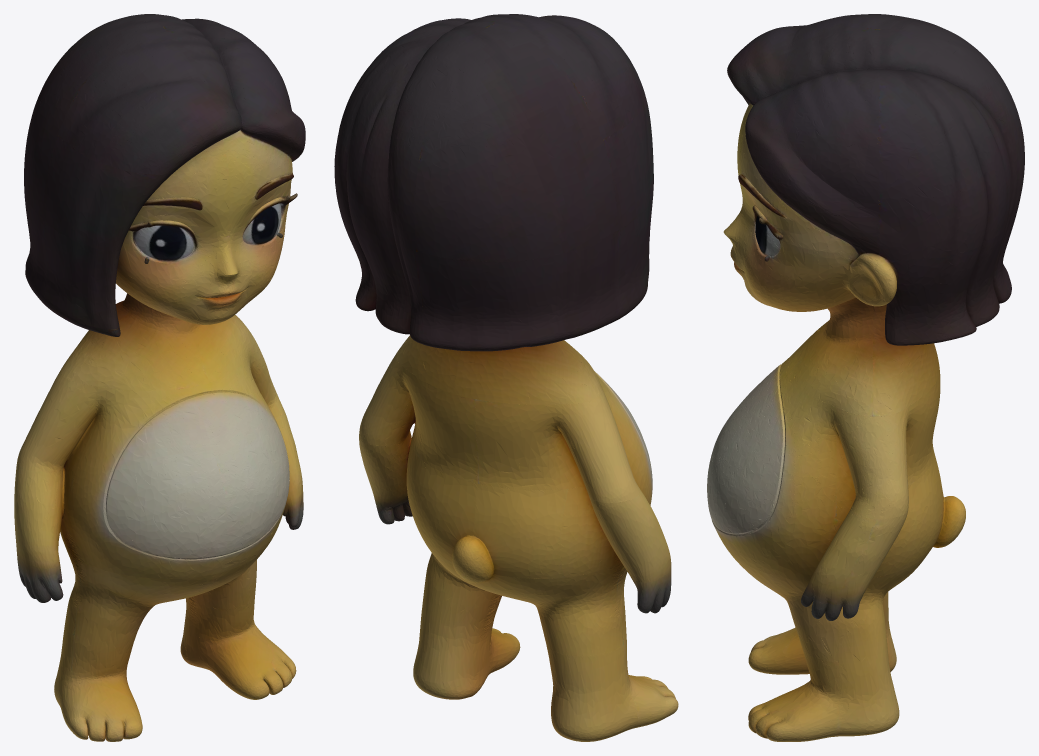
The model's file is naibao.glb.
The picture shows the model from 3 angles, left to right: view 1: azimuth 30°, elevation 25°; view 2: azimuth 150°, elevation 25°; view 3: azimuth 270°, elevation 25°; orthographic projection. The views are drawn at different scales.
Visible parts, largest first — view 1: geometry_0; view 2: geometry_0; view 3: geometry_0.
Part boxes in pixels (x1,y1,x2,y2): geometry_0: (14, 14, 305, 741); geometry_0: (334, 14, 678, 741); geometry_0: (707, 14, 1024, 741).
Size of the model in its own units: 0.4551 by 0.9994 by 0.418.
Materials: 1 (1 with a texture image).
